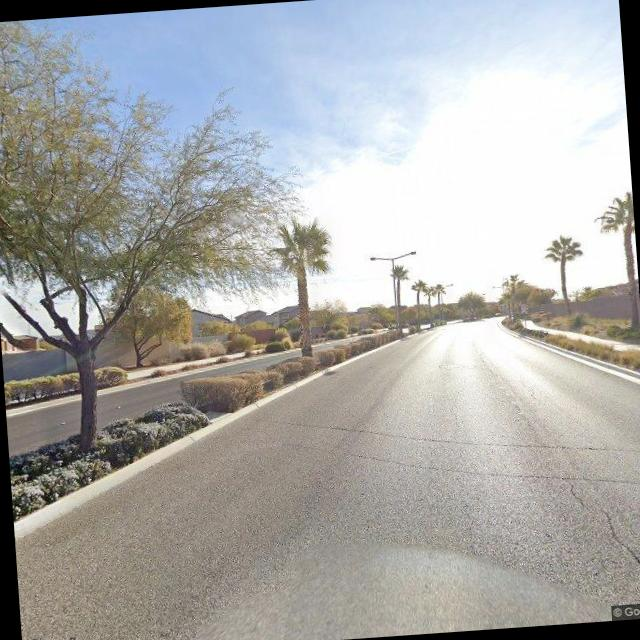crack: (563, 477, 640, 604), (518, 374, 540, 402)
